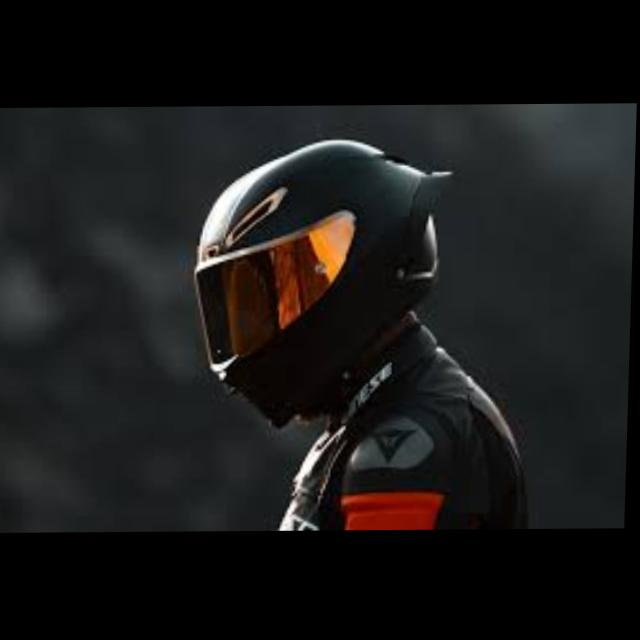motorcycle-helmets: (196, 139, 451, 424)
